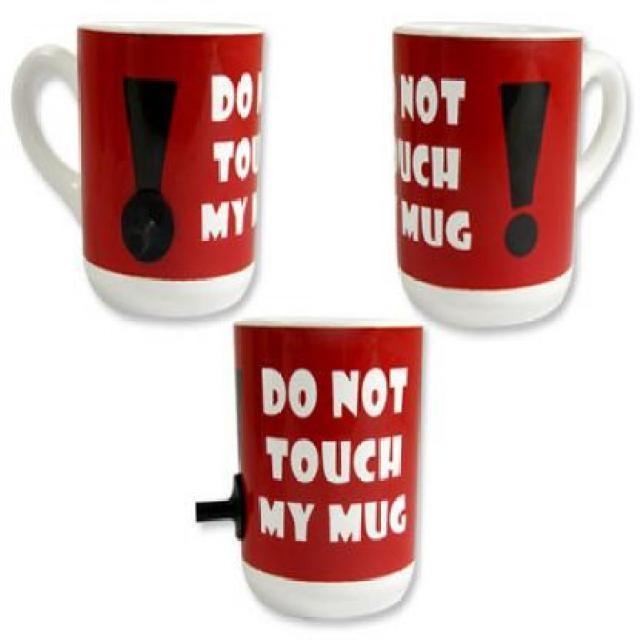taza: (9, 18, 268, 317), (394, 19, 632, 332), (197, 318, 429, 624)
